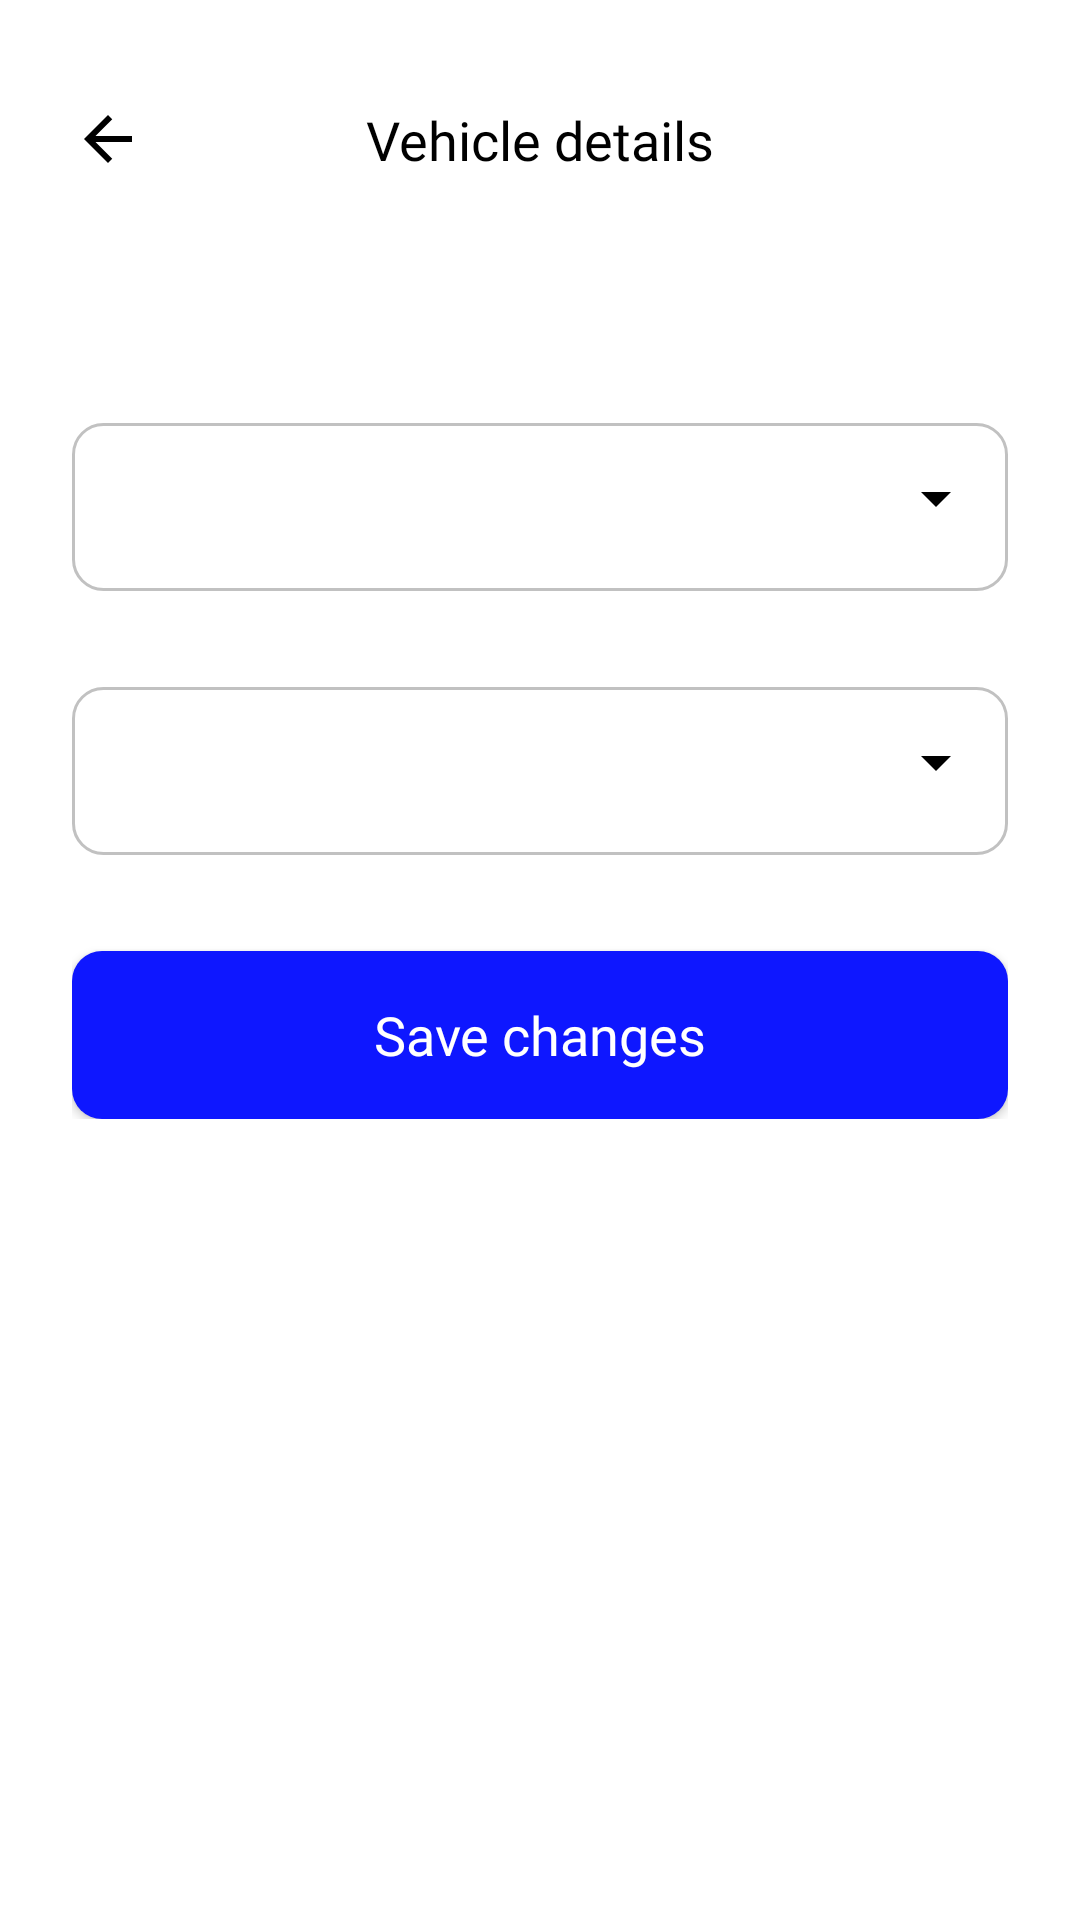

Where to tap for icons on this 1080w x 1920h app screen, as (x,y):
arrow back: (108,139)
